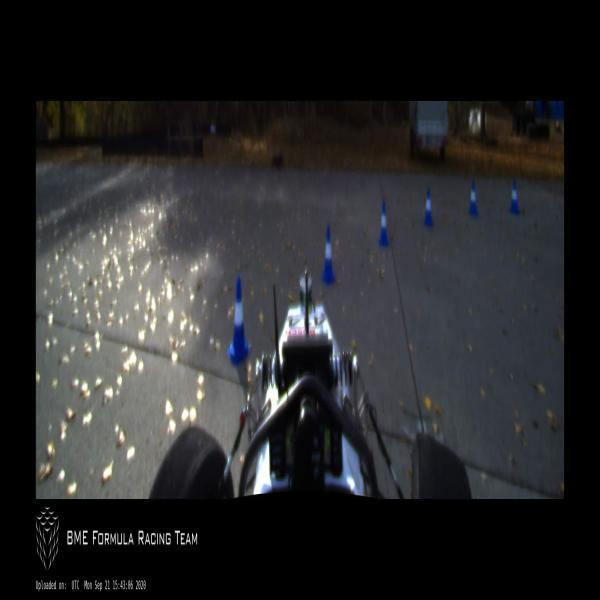blue_cone: (227, 277, 251, 365), (320, 225, 335, 283), (377, 203, 389, 246), (422, 186, 434, 226), (508, 179, 520, 213), (467, 180, 478, 215)
